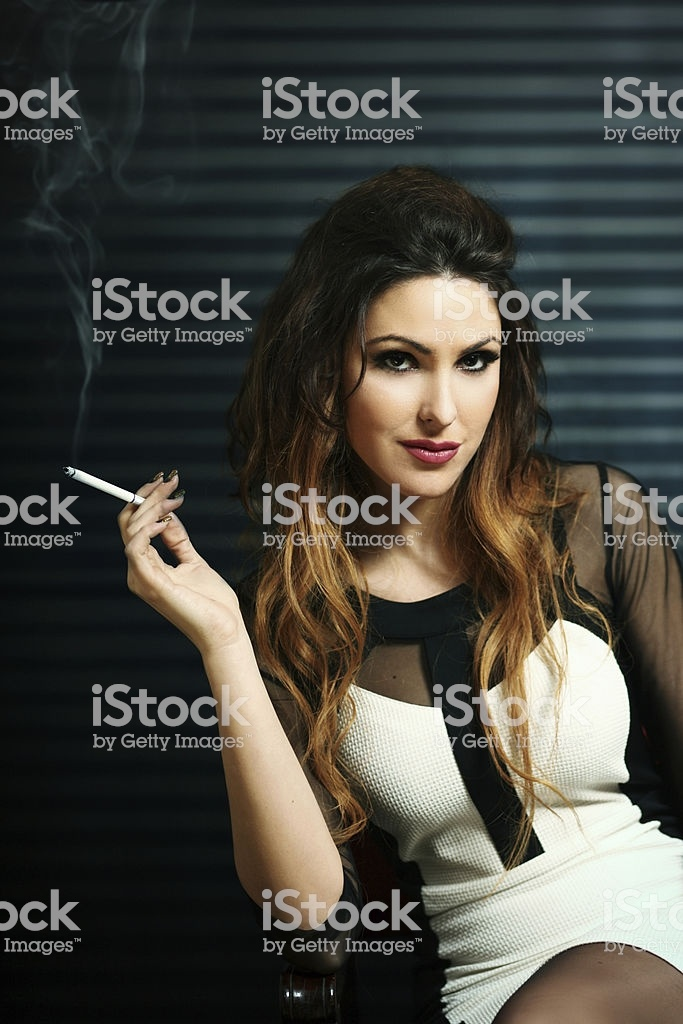sigaretta: (58, 464, 148, 516)
